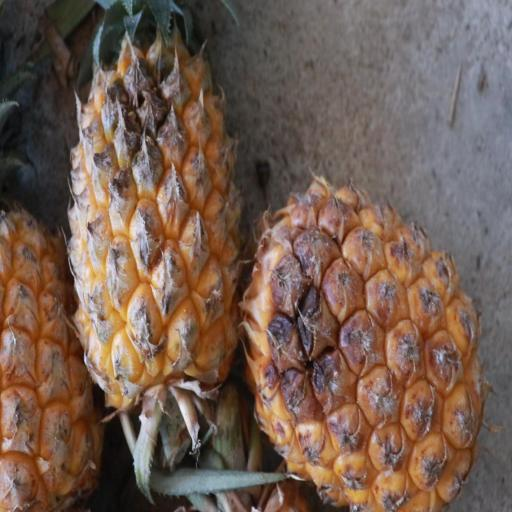Pineapple - v8 v1: (239, 179, 487, 512), (65, 0, 242, 431)
